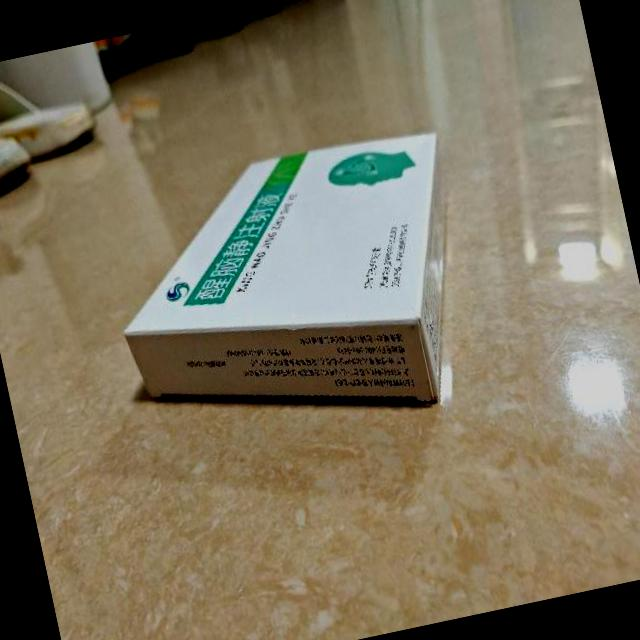box: (94, 120, 491, 461)
